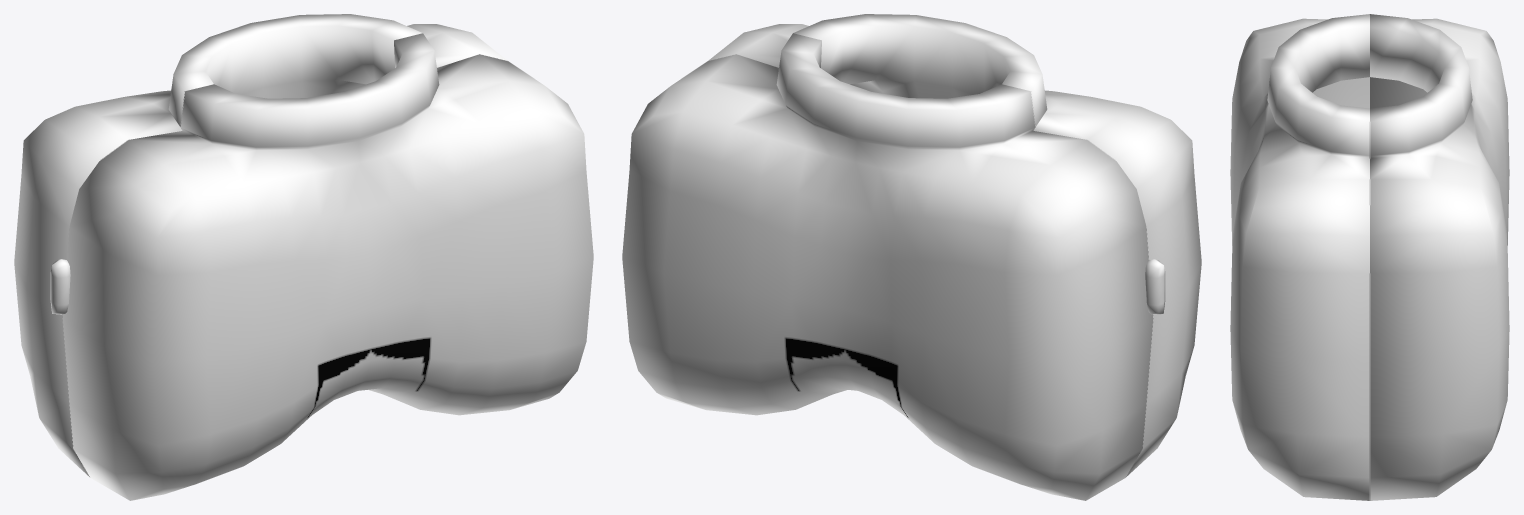
File: 新雪糕工厂-制作雪糕-雪糕和模具01-瓶子.FBX
The picture shows the model from 3 angles, left to right: view 1: azimuth 30°, elevation 25°; view 2: azimuth 150°, elevation 25°; view 3: azimuth 270°, elevation 25°; orthographic projection. The views are drawn at different scales.
Visible parts, largest first — view 1: 新雪糕工厂-制作雪糕-雪糕和模具01-瓶子; view 2: 新雪糕工厂-制作雪糕-雪糕和模具01-瓶子; view 3: 新雪糕工厂-制作雪糕-雪糕和模具01-瓶子.
Boxes of the visible parts, <box> form: 新雪糕工厂-制作雪糕-雪糕和模具01-瓶子: <box>14,14,593,500</box>; 新雪糕工厂-制作雪糕-雪糕和模具01-瓶子: <box>622,14,1201,500</box>; 新雪糕工厂-制作雪糕-雪糕和模具01-瓶子: <box>1230,14,1509,500</box>.
Bounding box in the file's own units: 30.25 × 21.59 × 16.02.
1 material, 1 textured.
